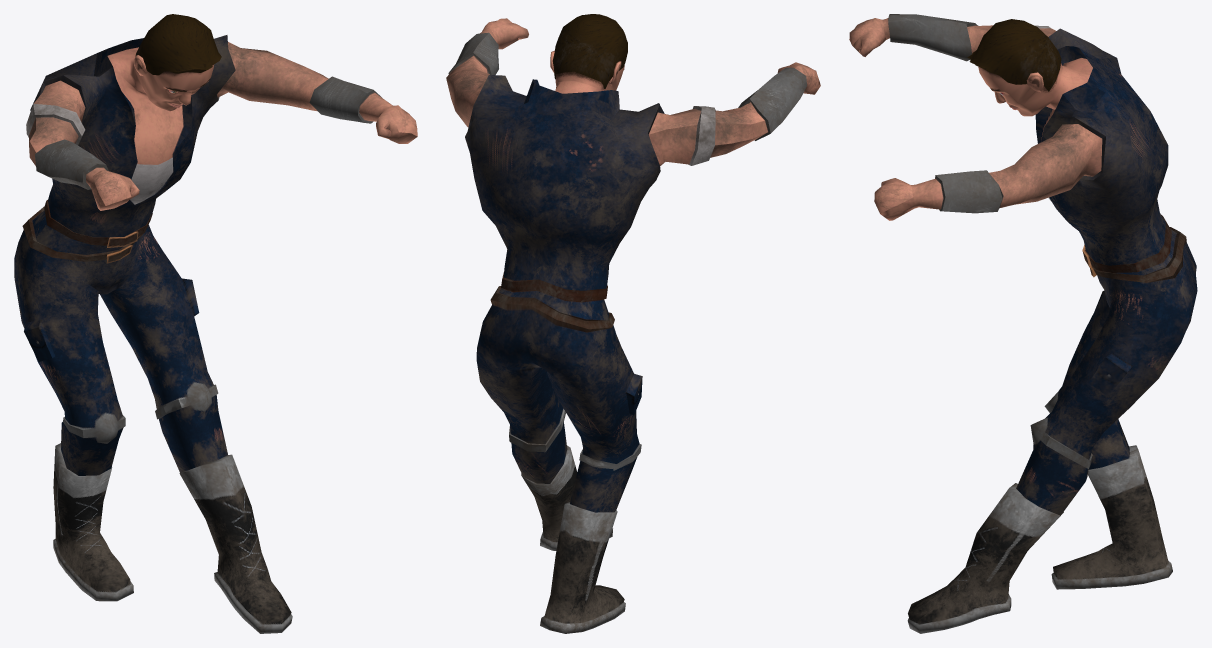
The model's file is Anim_ataque_d3_jugador.0041.obj.
3 views of the same model, side by side, from view 1: azimuth 30°, elevation 25°; view 2: azimuth 150°, elevation 25°; view 3: azimuth 270°, elevation 25° (orthographic). The views are drawn at different scales.
Parts seen in each view (by area): view 1: polySurface1; view 2: polySurface1; view 3: polySurface1.
Part boxes in pixels (box(x1,y1,x2,y2)): polySurface1: box(14, 14, 417, 633); polySurface1: box(446, 14, 820, 633); polySurface1: box(849, 14, 1197, 633).
Bounding box in the file's own units: 5.27 × 8.75 × 4.74.
